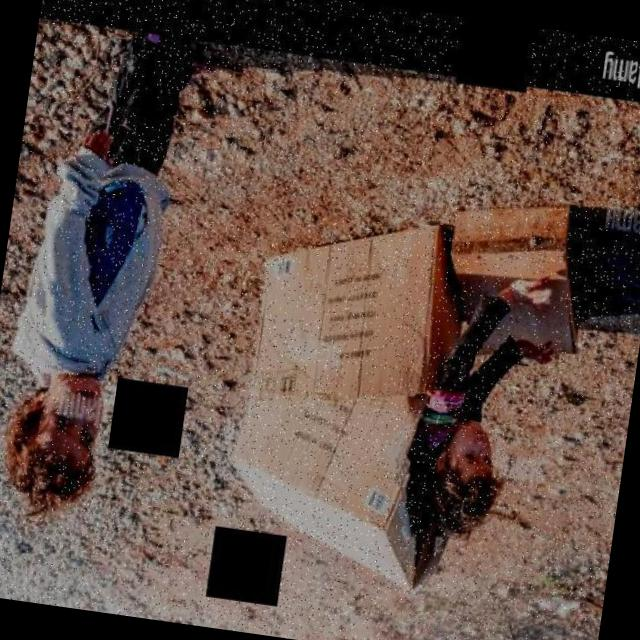box: (205, 337, 490, 604), (214, 201, 488, 420)
